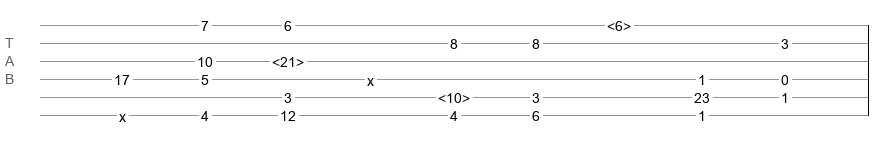0: (781, 72, 789, 82)
1: (698, 72, 706, 82), (698, 108, 706, 118), (781, 90, 789, 100)
10: (197, 54, 213, 64)
12: (280, 108, 296, 118)
17: (114, 72, 130, 82)
23: (694, 90, 710, 100)
3: (284, 90, 292, 100), (532, 90, 540, 100), (781, 36, 789, 46)
4: (201, 108, 209, 118), (450, 108, 458, 118)
5: (201, 72, 209, 82)
6: (284, 18, 292, 28), (532, 108, 540, 118)
7: (201, 18, 209, 28)
8: (450, 36, 458, 46), (532, 36, 540, 46)
harmonic: (272, 54, 304, 64), (438, 90, 470, 100), (607, 18, 631, 28)
x: (119, 109, 126, 117), (367, 73, 374, 81)
